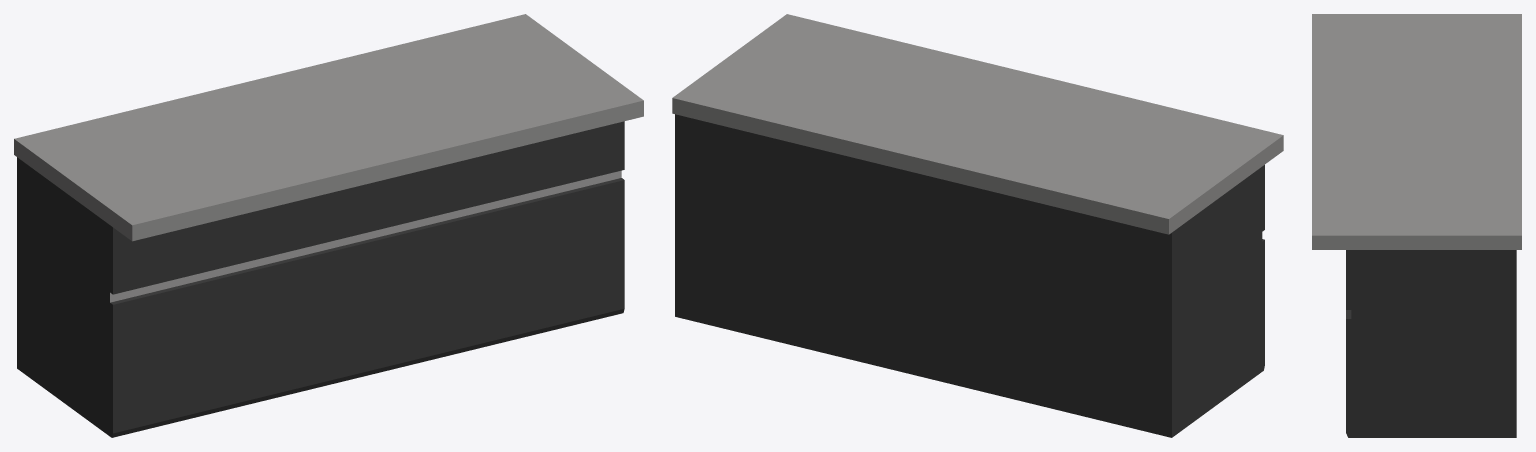
The model's file is SM_Props_Interior_Shop_Counter_02.fbx.
3 views of the same model, side by side, from view 1: azimuth 30°, elevation 25°; view 2: azimuth 150°, elevation 25°; view 3: azimuth 270°, elevation 25° (orthographic). The views are drawn at different scales.
Visible parts, largest first — view 1: SM_Props_Interior_Shop_Counter_02; view 2: SM_Props_Interior_Shop_Counter_02; view 3: SM_Props_Interior_Shop_Counter_02.
Boxes of the visible parts, box(x1,y1,x2,y2) form: SM_Props_Interior_Shop_Counter_02: box(14, 14, 643, 437); SM_Props_Interior_Shop_Counter_02: box(672, 14, 1283, 437); SM_Props_Interior_Shop_Counter_02: box(1312, 14, 1521, 437).
Bounding box in the file's own units: 200 × 85 × 80.
